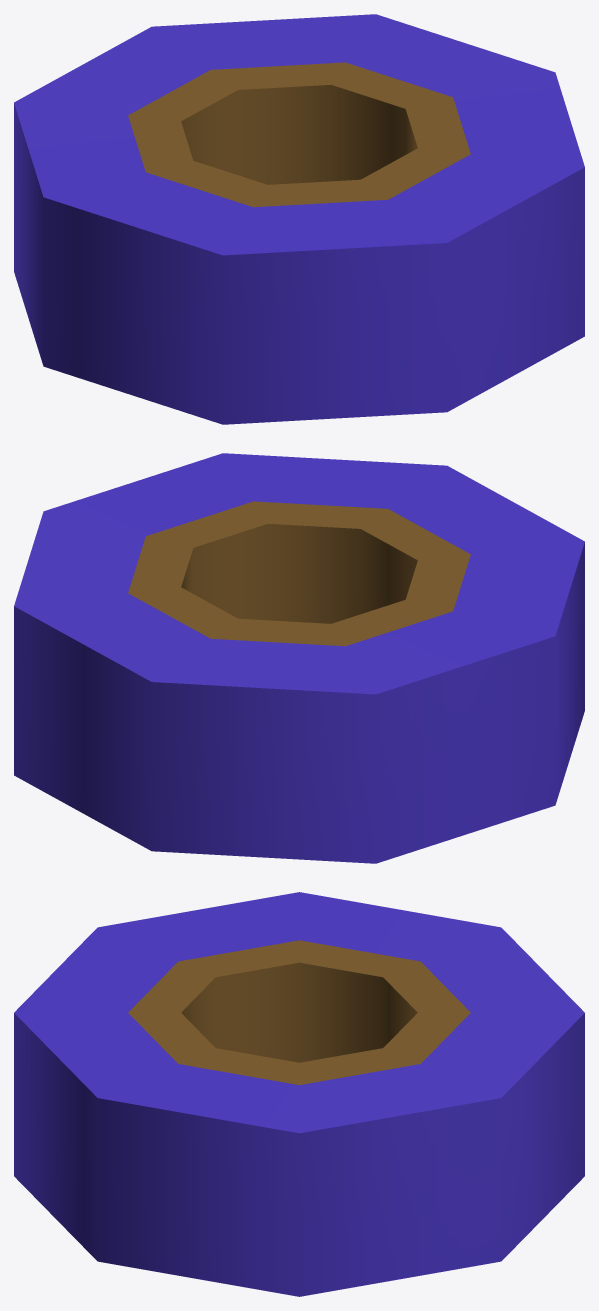
Rendered from InsulatingTape.fbx.
The picture shows the model from 3 angles, top to bottom: view 1: azimuth 30°, elevation 25°; view 2: azimuth 150°, elevation 25°; view 3: azimuth 270°, elevation 25°; orthographic projection. The views are drawn at different scales.
Visible parts, largest first — view 1: InsulatingTape; view 2: InsulatingTape; view 3: InsulatingTape.
Boxes of the visible parts, box(x1,y1,x2,y2) form: InsulatingTape: box(14, 14, 584, 424); InsulatingTape: box(14, 453, 584, 863); InsulatingTape: box(14, 892, 584, 1296).
Bounding box in the file's own units: 22.5 × 7.11 × 22.5.
